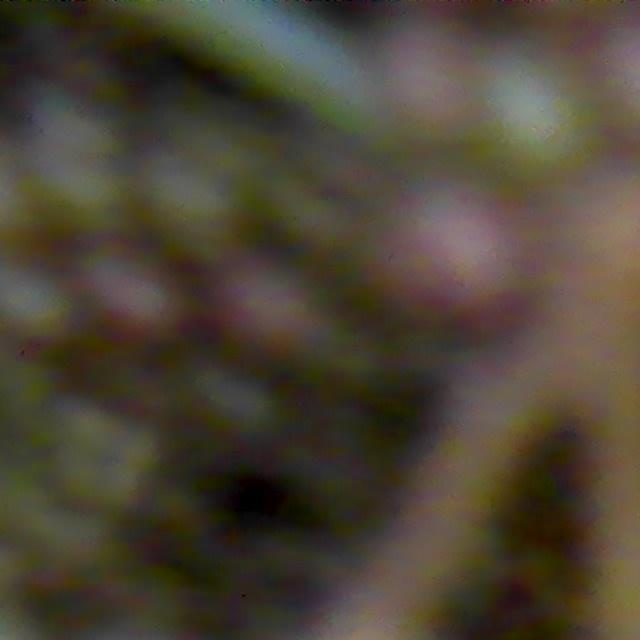SeaGrape: (386, 179, 532, 317), (479, 62, 597, 175), (80, 253, 188, 349), (219, 274, 317, 364), (0, 253, 75, 349)
